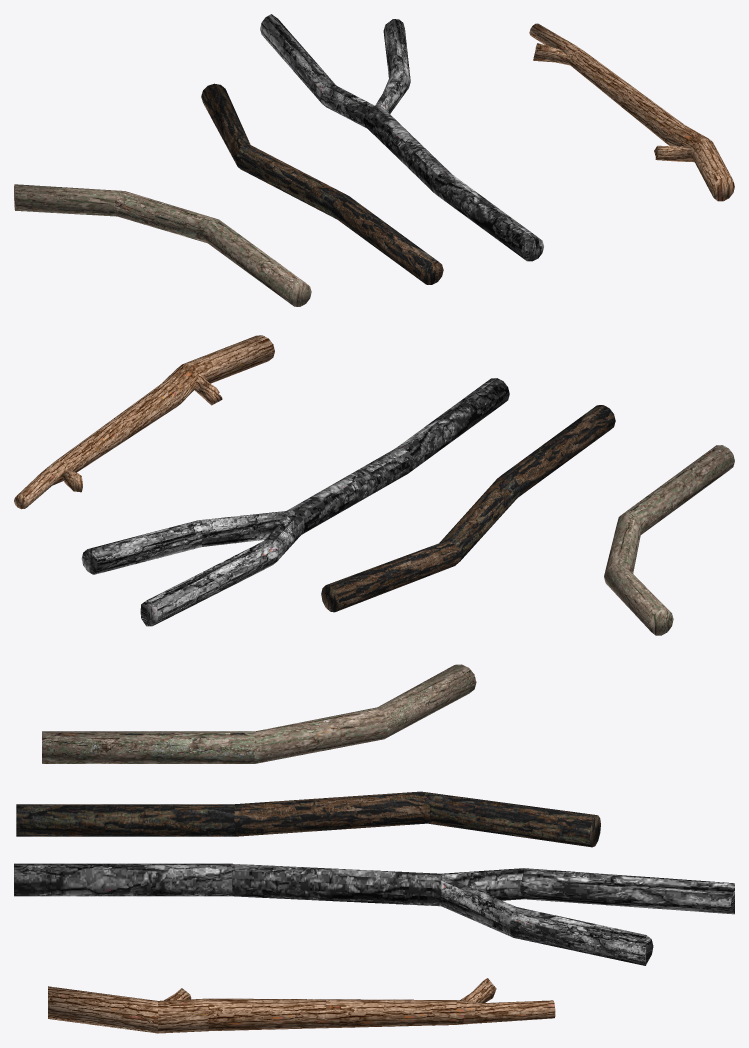
Rendered from sticks.fbx.
3 views of the same model, one above another, from view 1: azimuth 30°, elevation 25°; view 2: azimuth 150°, elevation 25°; view 3: azimuth 270°, elevation 25° (orthographic). The views are drawn at different scales.
Visible parts, largest first — view 1: stick_1, stick_3, stick_2, stick_4; view 2: stick_1, stick_2, stick_4, stick_3; view 3: stick_1, stick_2, stick_4, stick_3.
Boxes of the visible parts, bbox=[...] form: stick_1: bbox=[260, 14, 543, 261]; stick_3: bbox=[14, 184, 311, 306]; stick_2: bbox=[201, 83, 443, 284]; stick_4: bbox=[529, 23, 734, 201]; stick_1: bbox=[81, 378, 509, 626]; stick_2: bbox=[321, 405, 615, 612]; stick_4: bbox=[14, 335, 274, 509]; stick_3: bbox=[604, 445, 734, 635]; stick_1: bbox=[14, 863, 734, 965]; stick_2: bbox=[16, 791, 600, 847]; stick_4: bbox=[48, 978, 555, 1033]; stick_3: bbox=[42, 664, 476, 763].
Size of the model in its own units: 75.46 by 3.59 by 66.08.
